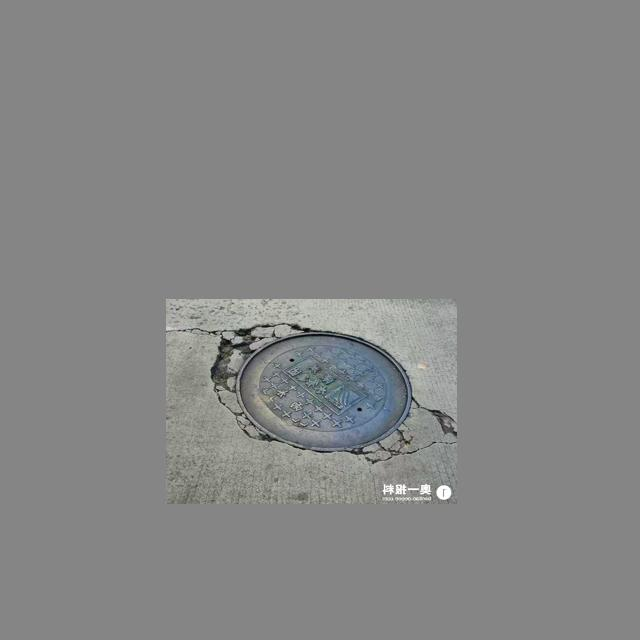circle: (207, 317, 452, 463)
